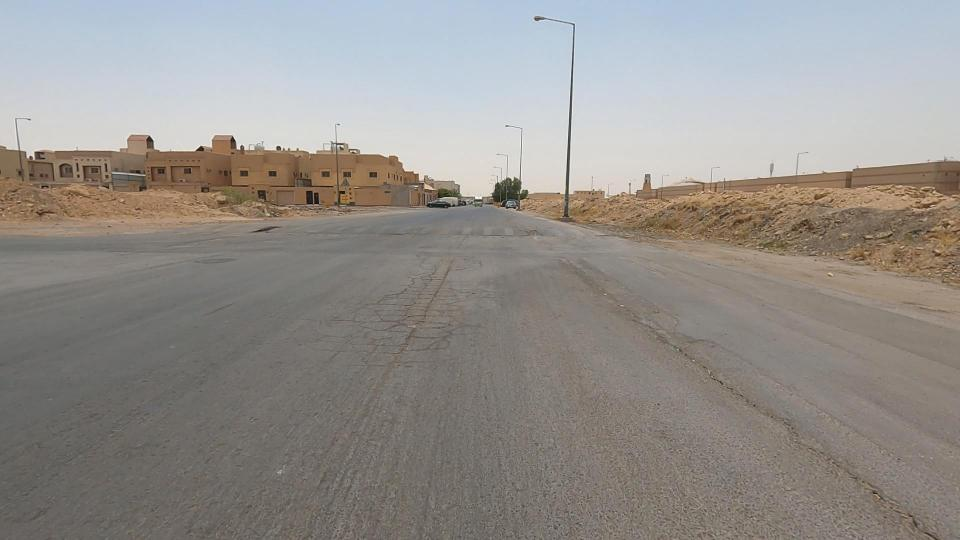POTHOLES: (683, 342, 909, 524), (538, 236, 676, 365), (614, 297, 761, 416), (332, 297, 453, 435), (357, 260, 486, 367)
